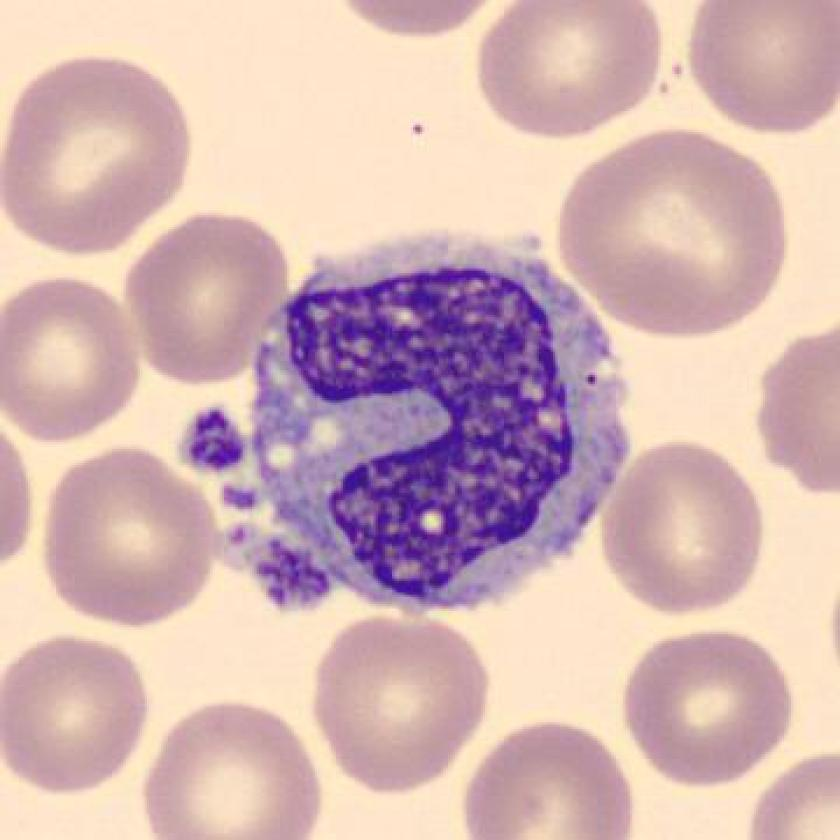monocyte: (232, 210, 654, 638)
